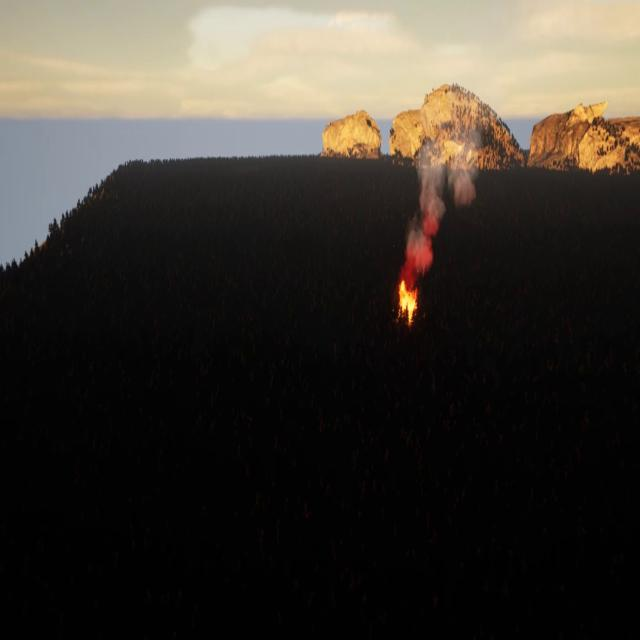fire: (397, 274, 421, 333)
smoke: (405, 104, 481, 277)
